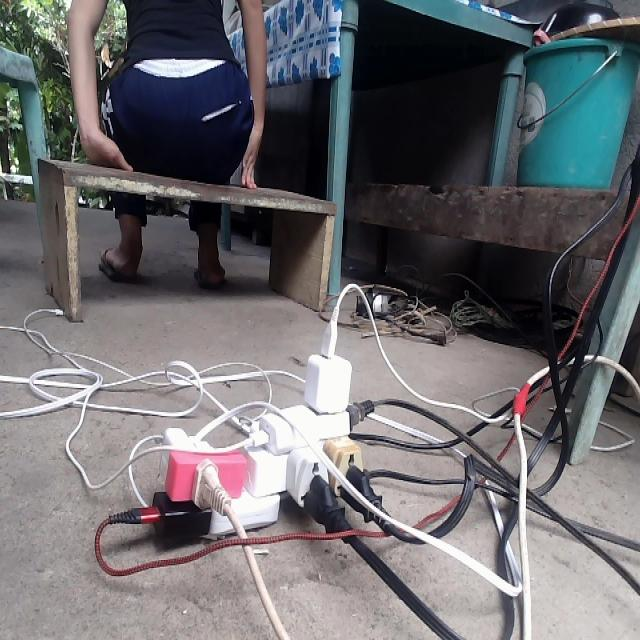-: (80, 272, 450, 596)
